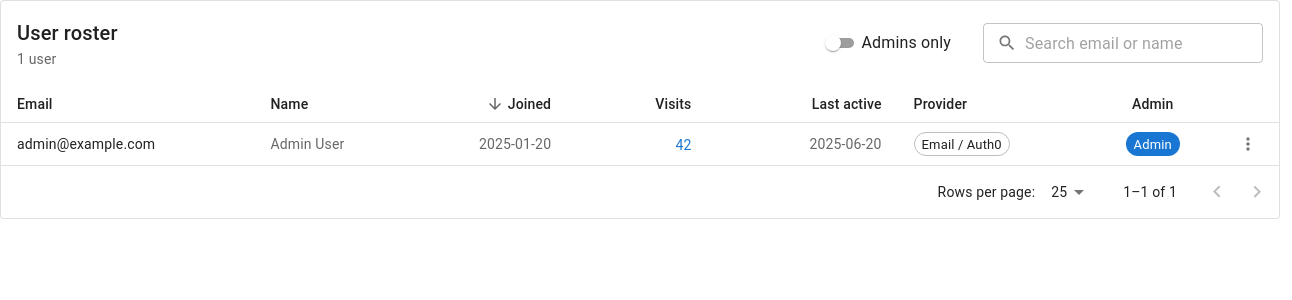
Test: UserRosterTable › surfaces the 409 last-admin error verbatim in the Alert (cross-layer contract)
Click the button named "Actions for admin@example.com". click: point(1248, 144)
box: [1233,129,1263,159]
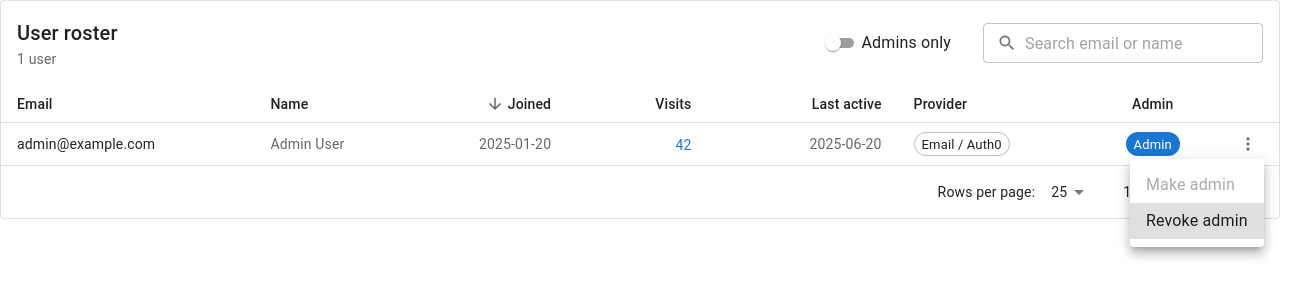
Click the menu item "Revoke admin". click: point(1197, 221)
box: [1130,203,1264,239]
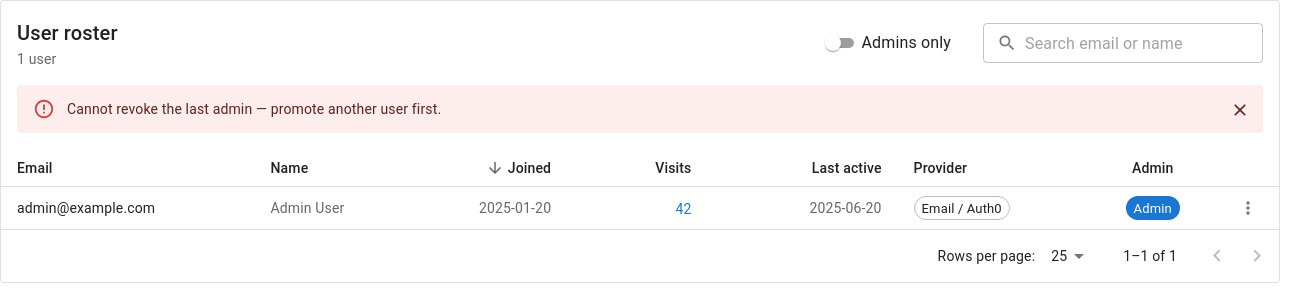
Expected: the message "Cannot revoke the last admin — promote another user first." is shown, [17,85,1263,133]
Expected: the message reads "Cannot revoke the last admin — promote another user first.", [67,101,441,117]
